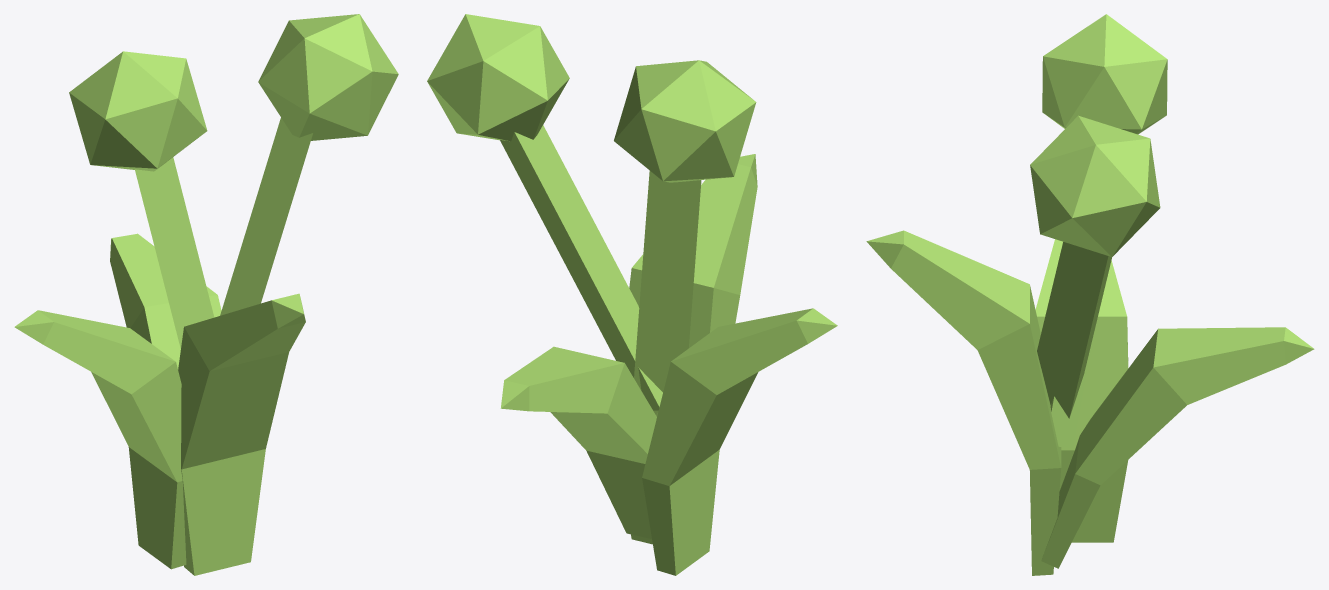
The model's file is flower_new_3.fbx.
3 views of the same model, side by side, from view 1: azimuth 30°, elevation 25°; view 2: azimuth 150°, elevation 25°; view 3: azimuth 270°, elevation 25° (orthographic). The views are drawn at different scales.
Visible parts, largest first — view 1: flower.002; view 2: flower.002; view 3: flower.002.
Boxes of the visible parts, x1,y1,x2,y2 form: flower.002: [14, 14, 398, 575]; flower.002: [427, 14, 837, 575]; flower.002: [866, 14, 1314, 575].
Bounding box in the file's own units: 61.13 × 77.71 × 61.13.
